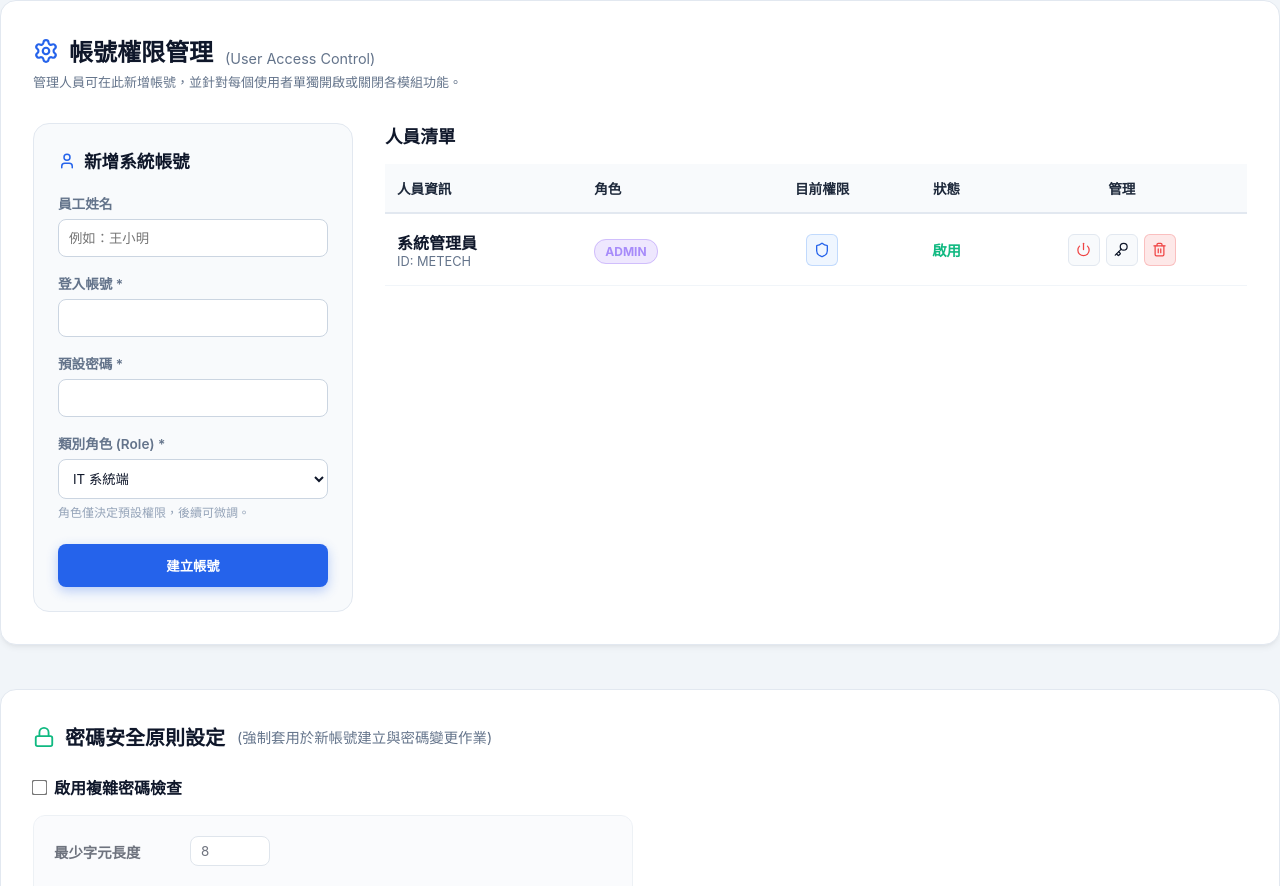
Test: Settings 頁面完整流程整合測試 › 應能完成資料載入與權限彈窗開啟流程
The image size is (1280, 886).
Expected: the text "系統管理員" is shown, [397,233,477,253]
點擊「設定權限」按鈕
Click the button titled "設定功能權限" at (822, 250), box [806,234,838,266]
(page scrolled)
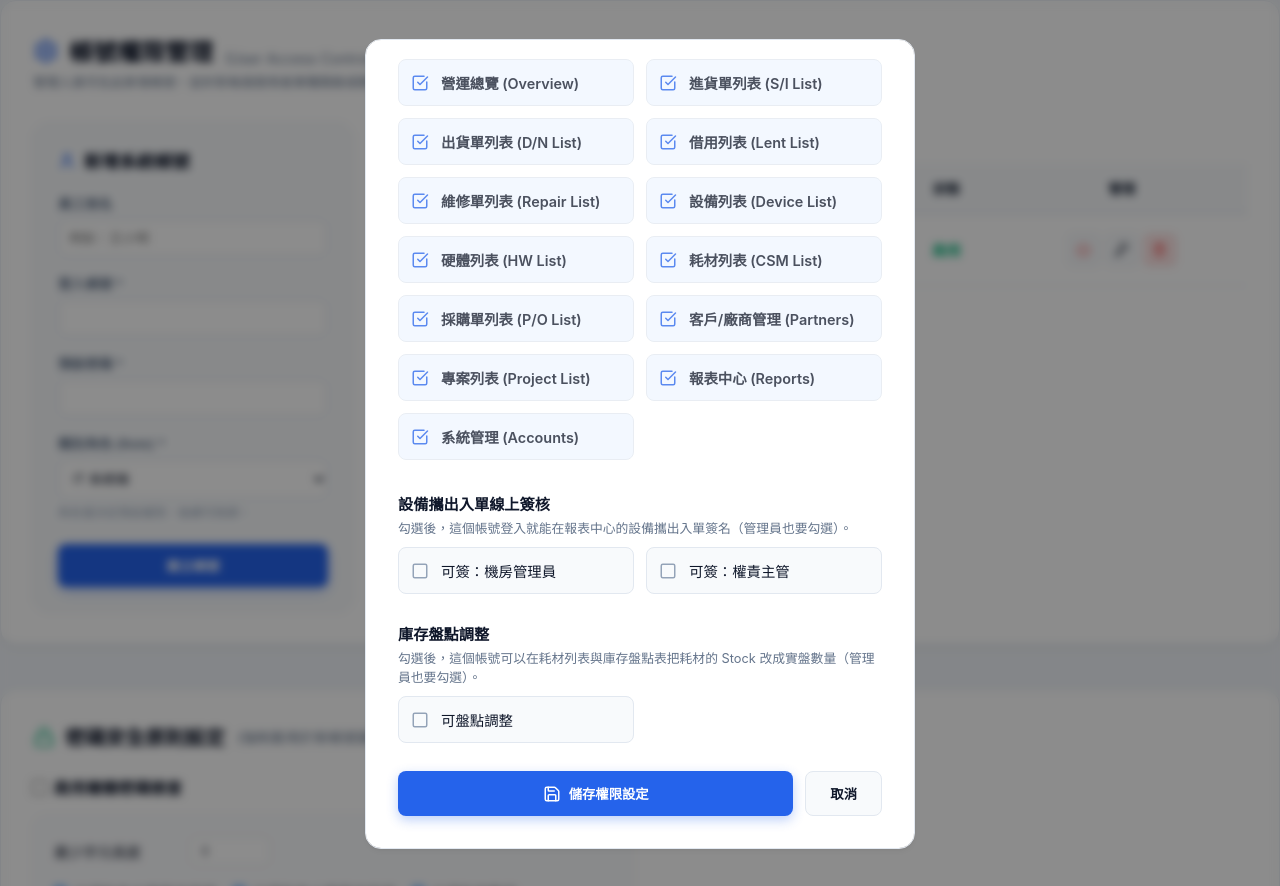
Expected: the button "儲存權限設定" is shown, [398,771,793,816]
